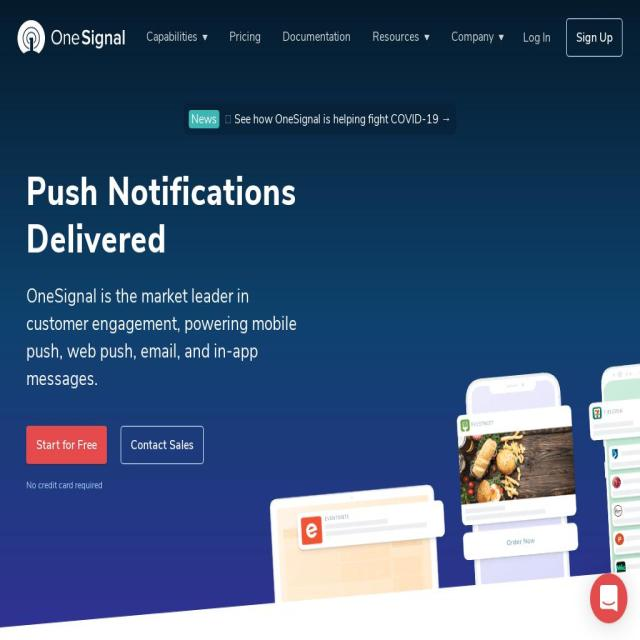button: (184, 103, 456, 135), (17, 9, 125, 65), (120, 426, 204, 464), (271, 20, 362, 54), (26, 426, 107, 464), (135, 20, 219, 54), (361, 20, 441, 54), (440, 20, 515, 54), (566, 18, 622, 56), (590, 574, 628, 624), (218, 20, 272, 54), (522, 18, 552, 56)
heading: (26, 168, 413, 264)
image: (250, 340, 640, 598), (17, 20, 125, 54), (600, 585, 618, 612), (424, 34, 430, 42), (202, 34, 207, 42), (499, 34, 504, 42)
text: (26, 282, 312, 392), (222, 110, 451, 128), (27, 478, 102, 492), (146, 27, 200, 46), (372, 27, 422, 46), (451, 27, 497, 46), (189, 110, 219, 128)
